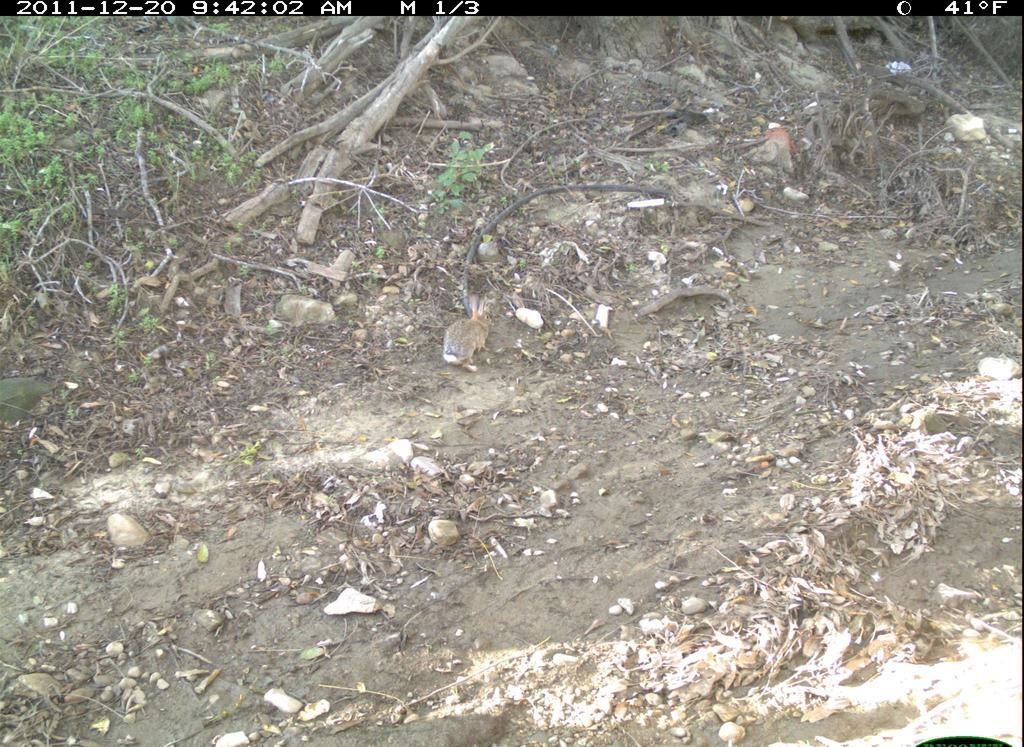rabbit: (438, 287, 501, 376)
